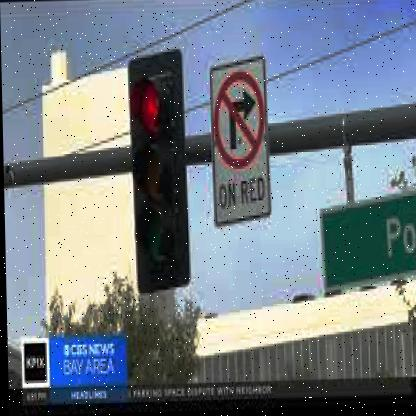No right turn: (209, 67, 266, 172)
